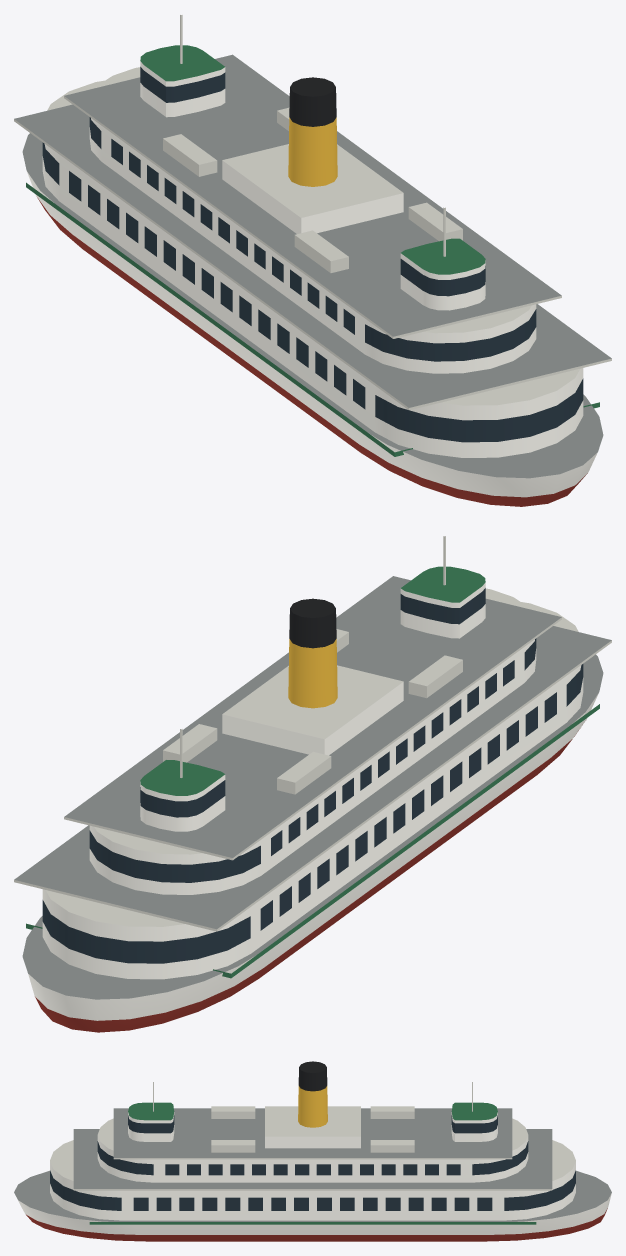
The model's file is sf_ferry_classic.glb.
3 renders of one model, top to bottom at view 1: azimuth 30°, elevation 25°; view 2: azimuth 150°, elevation 25°; view 3: azimuth 270°, elevation 25°, orthographic. The views are drawn at different scales.
Visible parts, largest first — view 1: sf_ferry_classic; view 2: sf_ferry_classic; view 3: sf_ferry_classic.
Boxes of the visible parts, x1,y1,x2,y2 form: sf_ferry_classic: (14,15,611,506); sf_ferry_classic: (14,536,611,1032); sf_ferry_classic: (14,1061,611,1241).
Bounding box in the file's own units: 18 × 20.5 × 75.
Materials: 1 (1 with a texture image).
